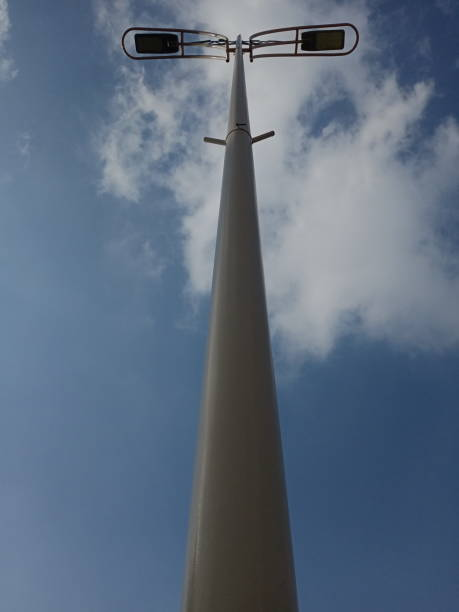light_pole: (188, 46, 296, 612)
